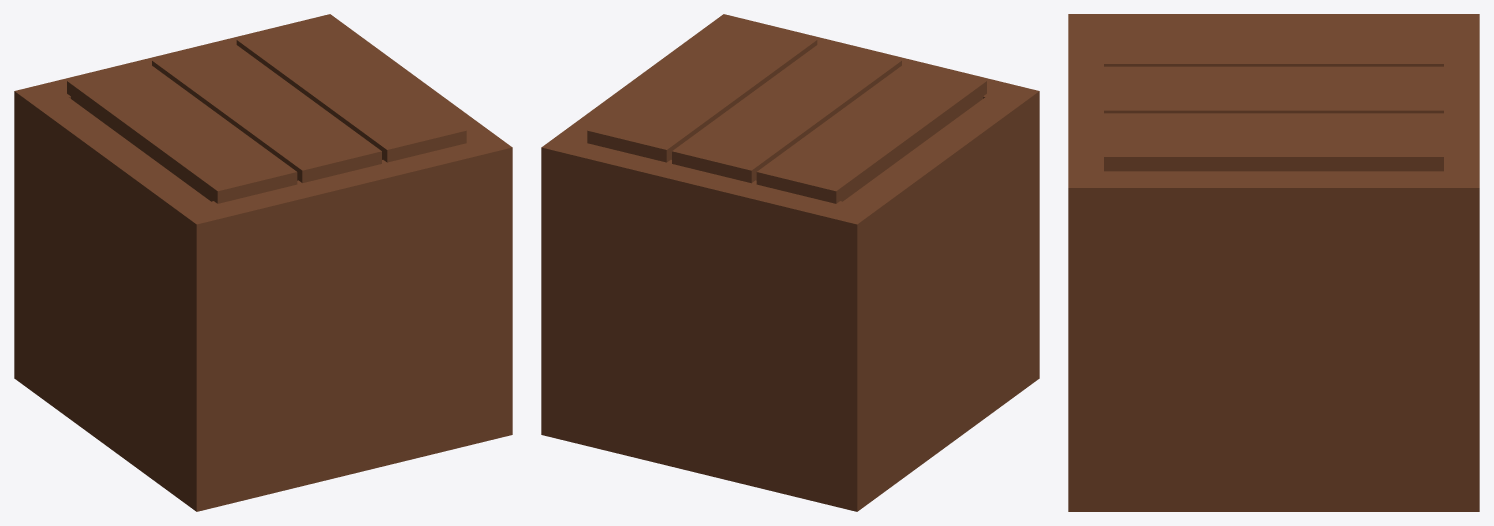
File: terrain_crate.glb
3 renders of one model, left to right at view 1: azimuth 30°, elevation 25°; view 2: azimuth 150°, elevation 25°; view 3: azimuth 270°, elevation 25°, orthographic. The views are drawn at different scales.
Visible parts, largest first — view 1: terrain_crate; view 2: terrain_crate; view 3: terrain_crate.
Boxes of the visible parts, bbox=[...] form: terrain_crate: bbox=[14, 14, 512, 511]; terrain_crate: bbox=[541, 14, 1039, 511]; terrain_crate: bbox=[1068, 14, 1479, 511].
Bounding box in the file's own units: 0.92 × 0.835 × 0.92.
